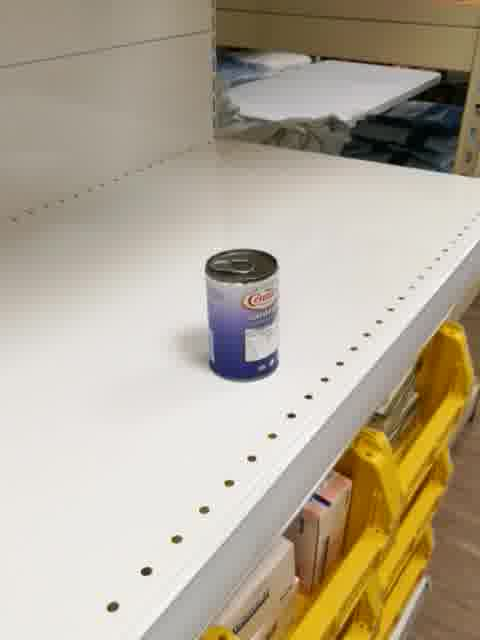sardine: (204, 246, 281, 384)
